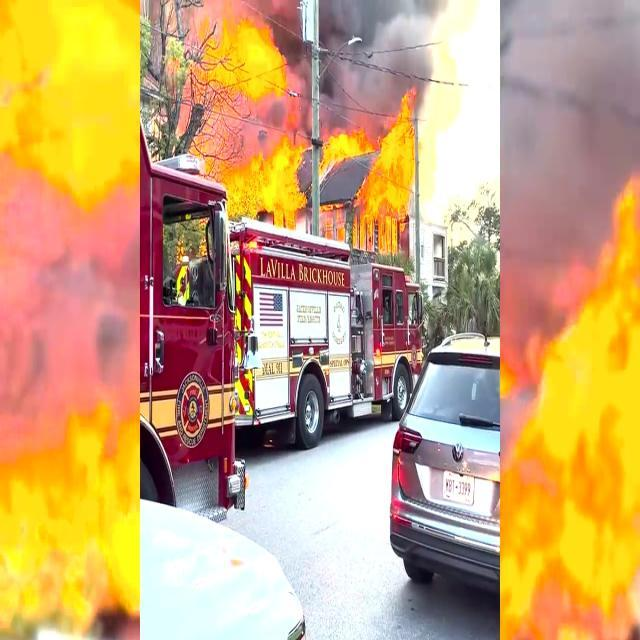Fire: (208, 21, 290, 222), (318, 113, 421, 246)
Smoke: (316, 5, 446, 96)
